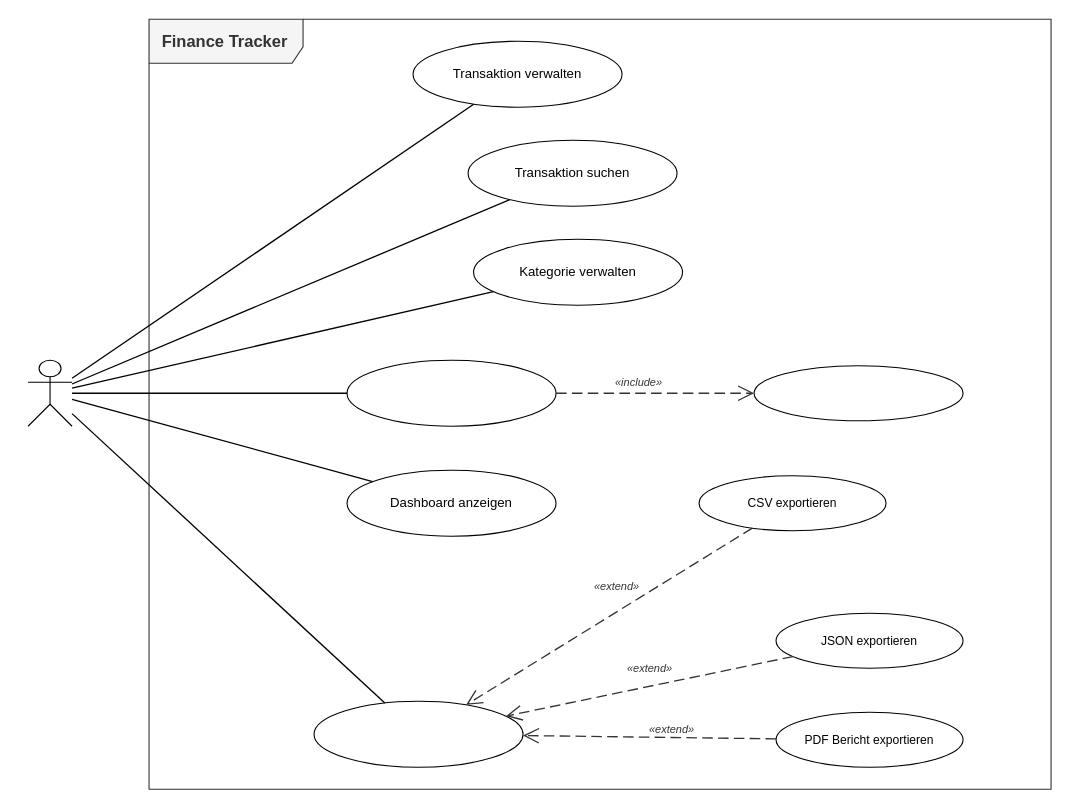
Image size: 1070x809. Some labels were removed from this diagram. Each missing label, with the box of its shape:
Benutzer: (27, 359, 72, 426)
Budget verwalten: (346, 359, 556, 426)
Budget-Auslastung einsehen: (753, 365, 963, 421)
Daten exportieren: (313, 700, 523, 767)
